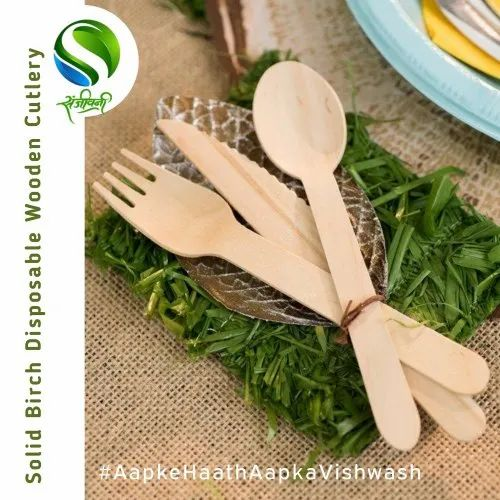Wooden Utensils: (112, 69, 464, 432)
